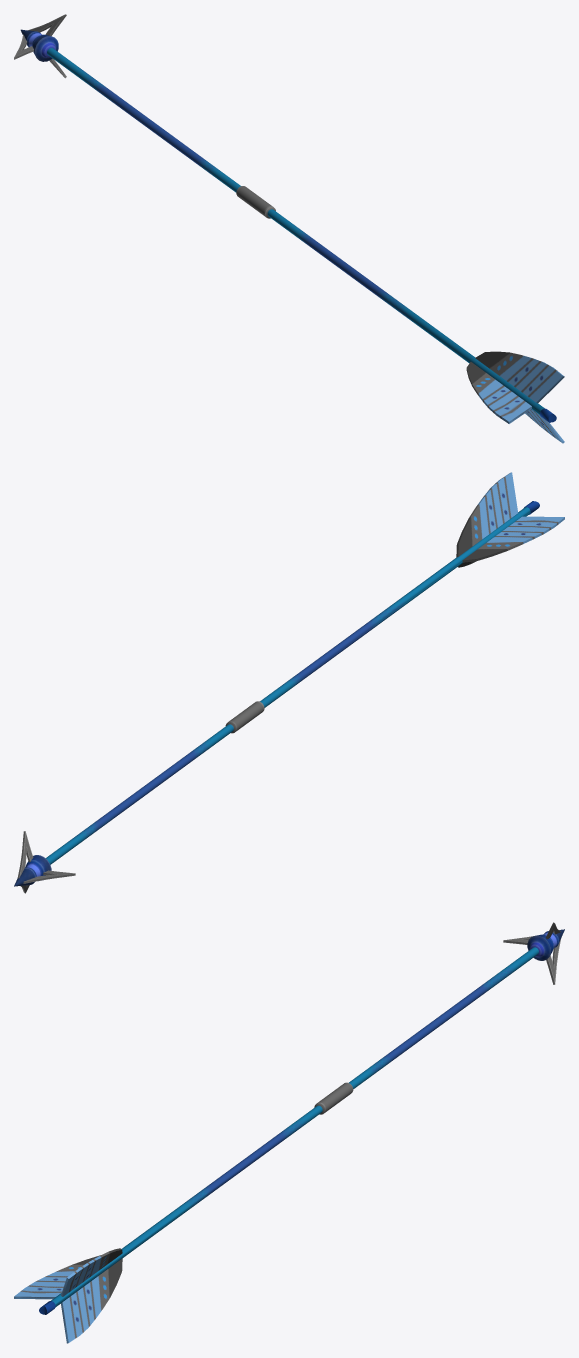
File: ice.glb
3 renders of one model, top to bottom at view 1: azimuth 30°, elevation 25°; view 2: azimuth 150°, elevation 25°; view 3: azimuth 330°, elevation 25°, orthographic.
Visible parts, largest first — view 1: arrow; view 2: arrow; view 3: arrow.
Boxes of the visible parts, left/top/right/bottom form: arrow: left=14, top=14, right=564, bottom=443; arrow: left=14, top=472, right=564, bottom=893; arrow: left=14, top=922, right=564, bottom=1343.
Bounding box in the file's own units: 0.0696 × 0.0804 × 1.13.
1 material, 1 textured.
